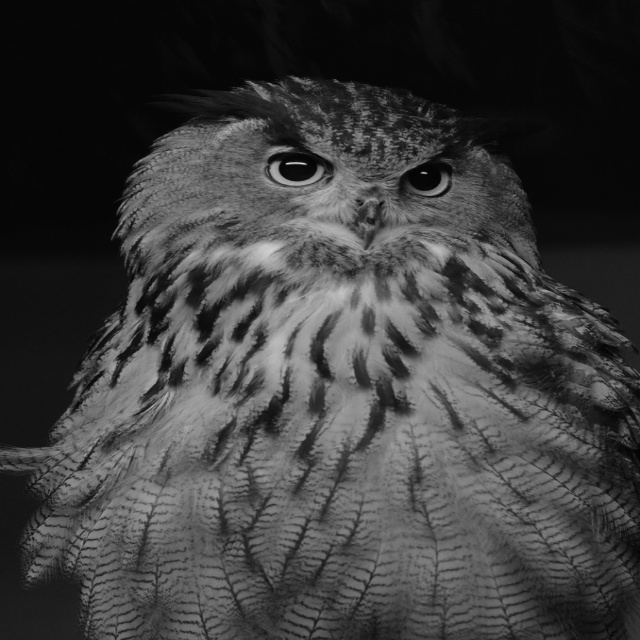Owl: (0, 74, 639, 640)
